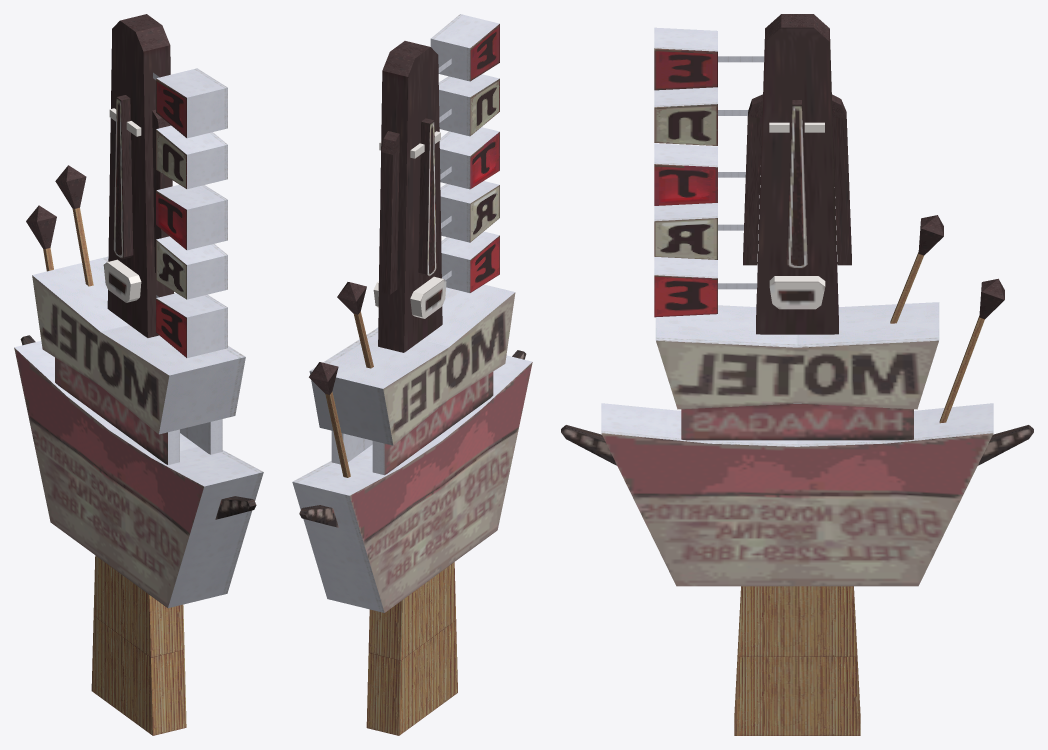
The model's file is tikisign01_lvs.obj.
3 renders of one model, left to right at view 1: azimuth 30°, elevation 25°; view 2: azimuth 150°, elevation 25°; view 3: azimuth 270°, elevation 25°, orthographic. The views are drawn at different scales.
Parts seen in each view (by area): view 1: tikisign01_lvs; view 2: tikisign01_lvs; view 3: tikisign01_lvs.
Part boxes in pixels (x1,y1,x2,y2): tikisign01_lvs: [14, 14, 263, 735]; tikisign01_lvs: [292, 14, 532, 735]; tikisign01_lvs: [561, 14, 1033, 735].
Size of the model in its own units: 1.7 by 14.52 by 8.8.
4 materials, 4 textured.
